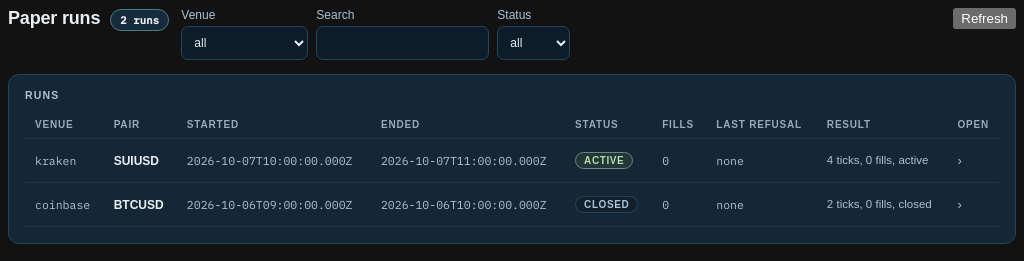
Test: LastRunsPanel — filter selections vs history refresh › preserves venue and status selections together when refresh removes both
The width and height of the screenshot is (1024, 261).
Check: the table with test id "paper-last-runs-table" is shown, box [25,111,999,227]
Select "Venue: kraken" in the dropdown named "Filter runs by venue" at (245, 43), box [181,26,308,60]
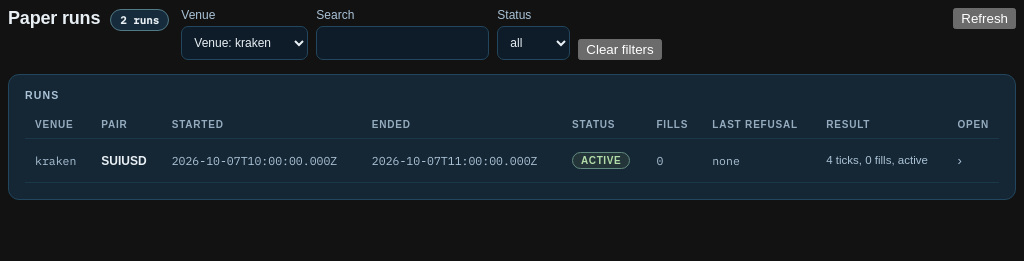
Select "active" in the dropdown named "Filter runs by status" at (534, 43), box [497,26,570,60]
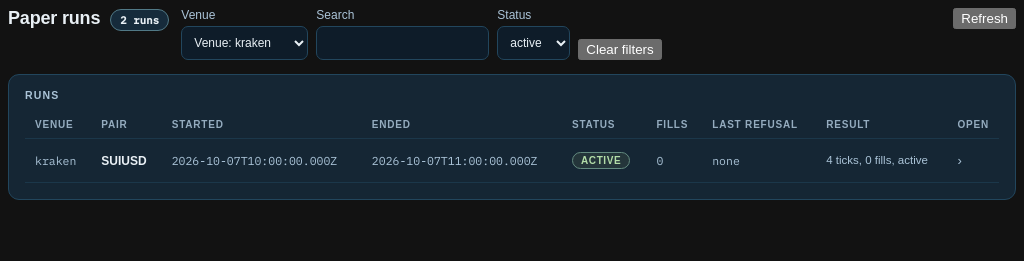
Check: the number of rows named "Open run detail" is 1, box [25,138,999,182]
Click the button with test id "paper-last-runs-refresh".
click(985, 18)  # box [953,8,1016,29]
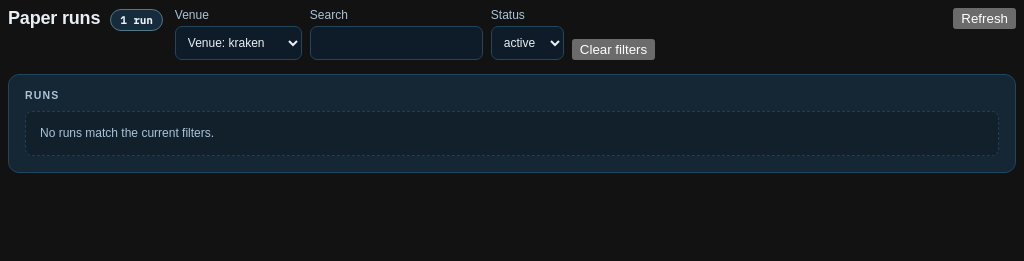
Check: the text with test id "paper-last-runs-count" reads "1 run", box [120,13,153,27]
Check: the text "No runs match the current filters." is shown, box [25,111,999,156]
